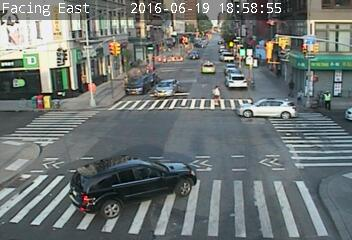neg: (236, 25, 253, 49), (172, 79, 186, 97), (44, 133, 56, 149), (234, 147, 246, 162), (102, 157, 112, 171), (76, 85, 86, 98), (181, 151, 191, 164), (120, 85, 128, 96), (129, 124, 137, 134)
pos: (291, 87, 307, 108), (209, 83, 224, 103), (321, 88, 336, 107), (286, 78, 297, 93)
